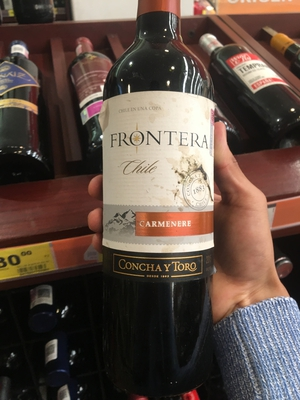frontera carmenere: (92, 3, 233, 381)
